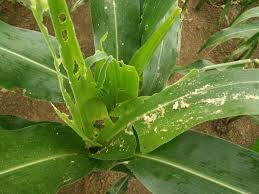fallarmy_worm: (86, 144, 103, 161)
